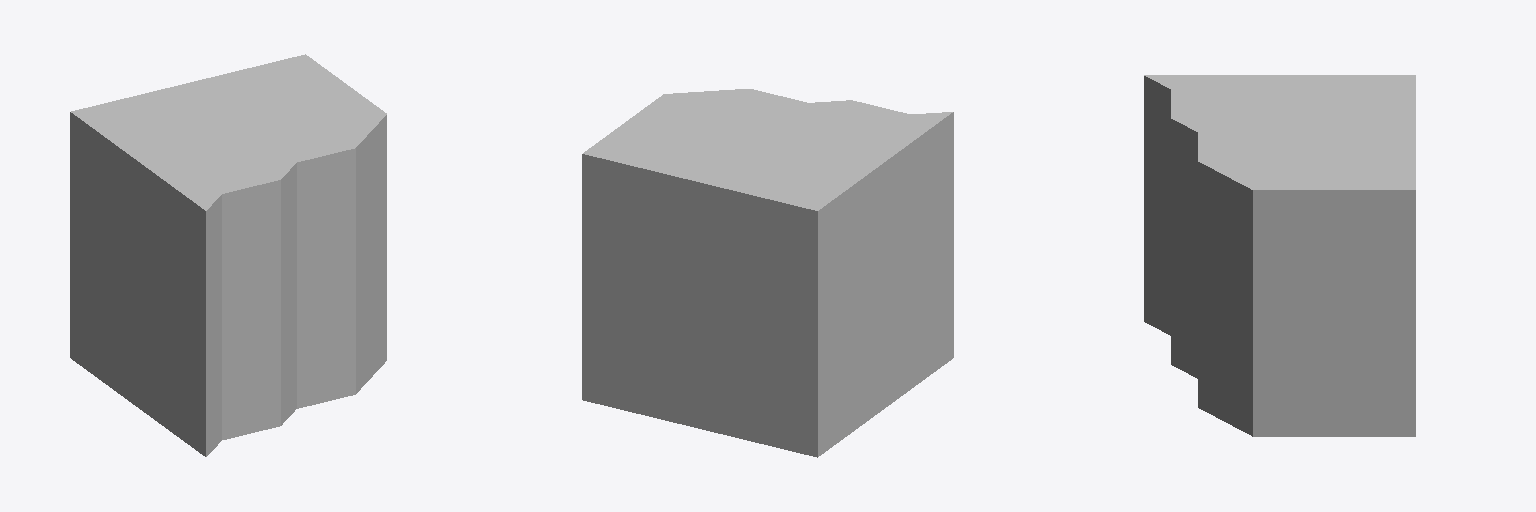
The model's file is door_side_b.obj.
3 views of the same model, side by side, from view 1: azimuth 30°, elevation 25°; view 2: azimuth 150°, elevation 25°; view 3: azimuth 270°, elevation 25° (orthographic).
Visible parts, largest first — view 1: Cube.011_Cube.005; view 2: Cube.011_Cube.005; view 3: Cube.011_Cube.005.
Part boxes in pixels (x1,y1,x2,y2): Cube.011_Cube.005: (70, 54, 386, 456); Cube.011_Cube.005: (582, 89, 953, 457); Cube.011_Cube.005: (1144, 75, 1415, 436).
Bounding box in the file's own units: 1 × 1 × 1.